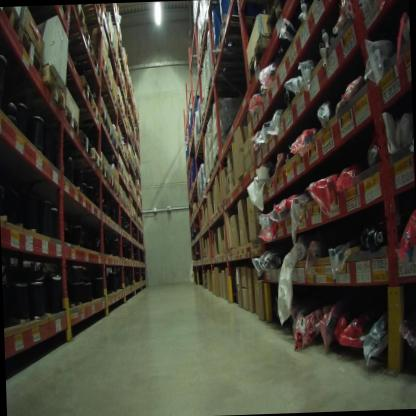pallet: (247, 33, 292, 89), (215, 10, 264, 51), (16, 27, 47, 82), (37, 62, 68, 115), (212, 44, 257, 79), (55, 22, 97, 56), (207, 75, 253, 102), (59, 74, 94, 106), (265, 0, 292, 37), (57, 130, 92, 158), (70, 99, 103, 126), (47, 5, 88, 24), (71, 148, 103, 172), (0, 9, 28, 34), (77, 4, 105, 28), (89, 132, 119, 154), (76, 54, 101, 79), (64, 104, 81, 138), (40, 5, 73, 21), (85, 123, 114, 140), (213, 148, 230, 172), (200, 112, 220, 131), (96, 53, 109, 77), (101, 105, 112, 127), (105, 77, 114, 95), (103, 166, 111, 182), (210, 167, 218, 181), (197, 51, 205, 64), (113, 97, 119, 112), (205, 175, 211, 189), (111, 181, 117, 192)
